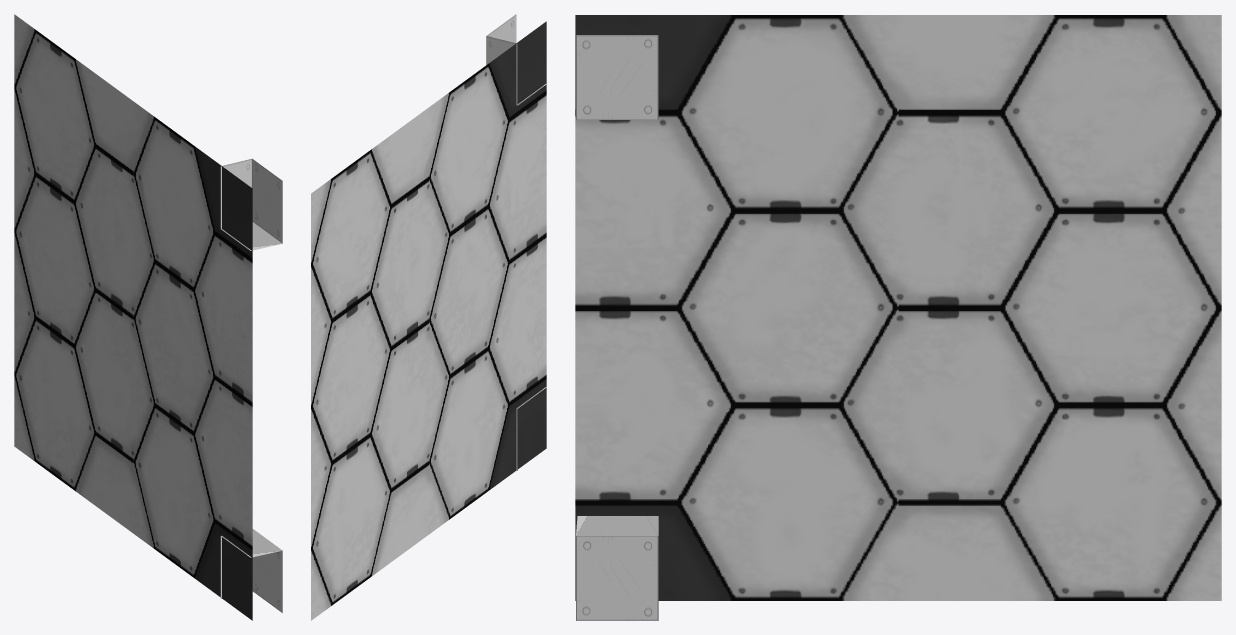
Rendered from Wall_CornerLeft.fbx.
3 views of the same model, side by side, from view 1: azimuth 30°, elevation 25°; view 2: azimuth 150°, elevation 25°; view 3: azimuth 270°, elevation 25° (orthographic). The views are drawn at different scales.
Parts seen in each view (by area): view 1: pPlane119; view 2: pPlane119; view 3: pPlane119.
Part boxes in pixels (x1,y1,x2,y2): pPlane119: (14, 14, 282, 620); pPlane119: (311, 14, 546, 620); pPlane119: (575, 15, 1221, 620).
Size of the model in its own units: 0.1534 by 2 by 2.
